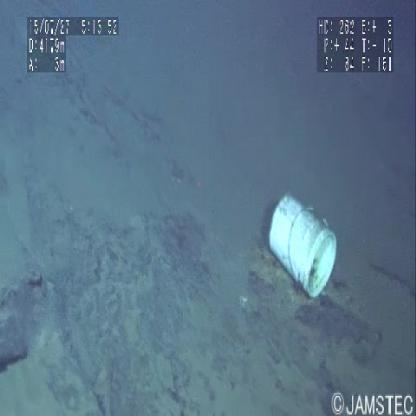Rác: (269, 196, 337, 301)
